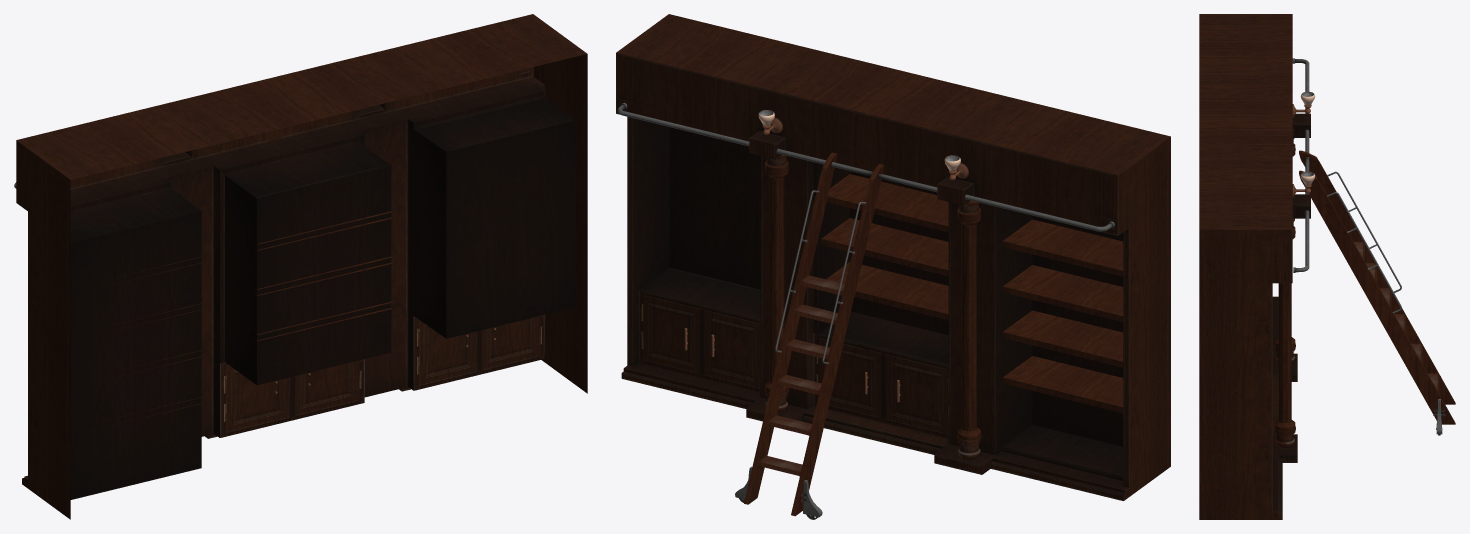
3 renders of one model, left to right at view 1: azimuth 30°, elevation 25°; view 2: azimuth 150°, elevation 25°; view 3: azimuth 270°, elevation 25°, orthographic. The views are drawn at different scales.
Parts seen in each view (by area): view 1: Object_2, Object_3; view 2: Object_2, Object_3; view 3: Object_2, Object_3.
Boxes of the visible parts, x1,y1,x2,y2 form: Object_2: (16, 14, 587, 519); Object_3: (14, 182, 496, 423); Object_2: (616, 14, 1170, 500); Object_3: (617, 102, 1123, 519); Object_2: (1199, 14, 1310, 519); Object_3: (1274, 58, 1455, 447).
Bounding box in the file's own units: 109 × 69.9 × 54.68.
Materials: 2 (2 with a texture image).
